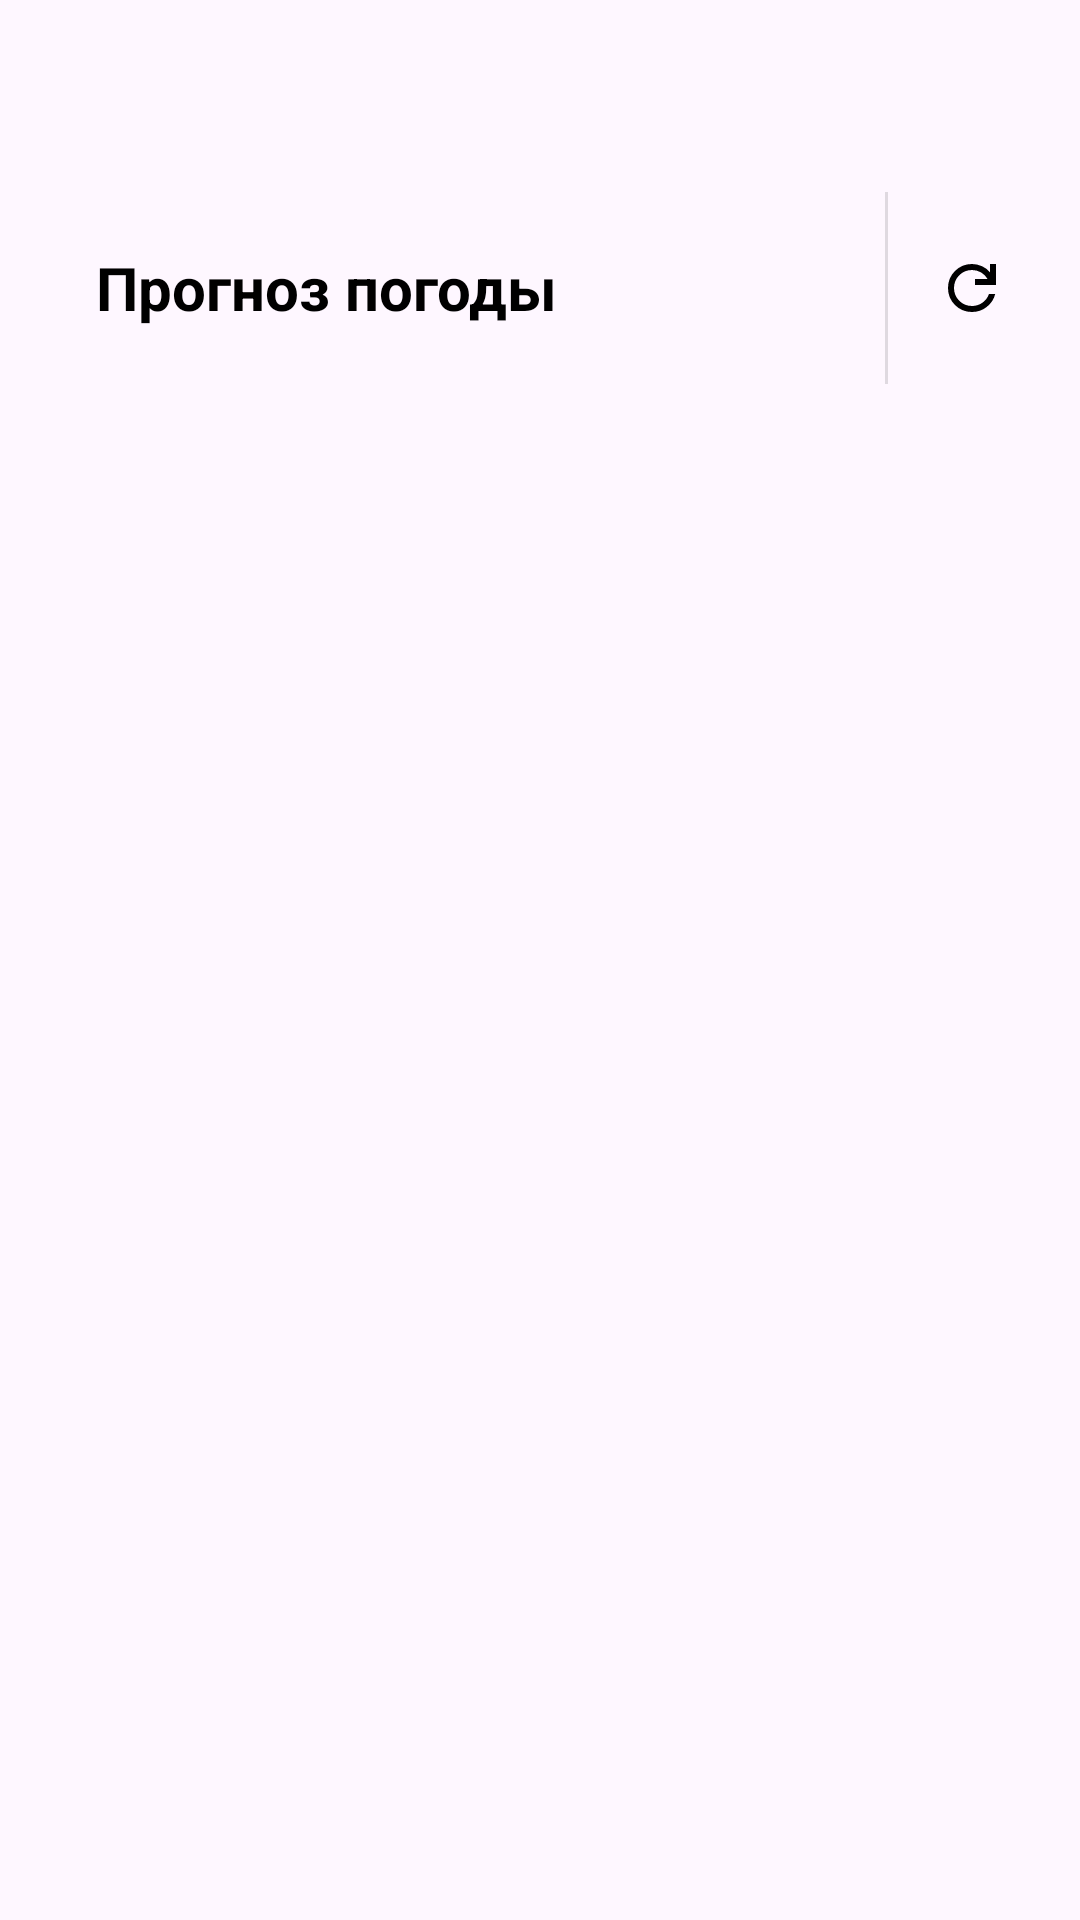

Screen size 1080px×1920px. Icon name, then its box in pixels as (x1, y1, x2, y2):
refresh: (948, 264, 996, 312)
